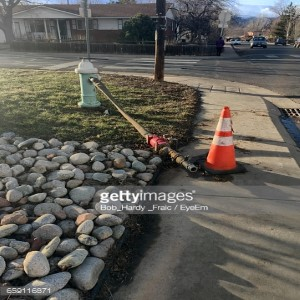traffic cone: (198, 104, 246, 174)
